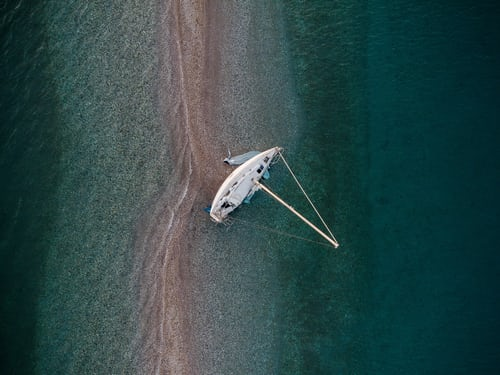yacht: (212, 141, 348, 259)
